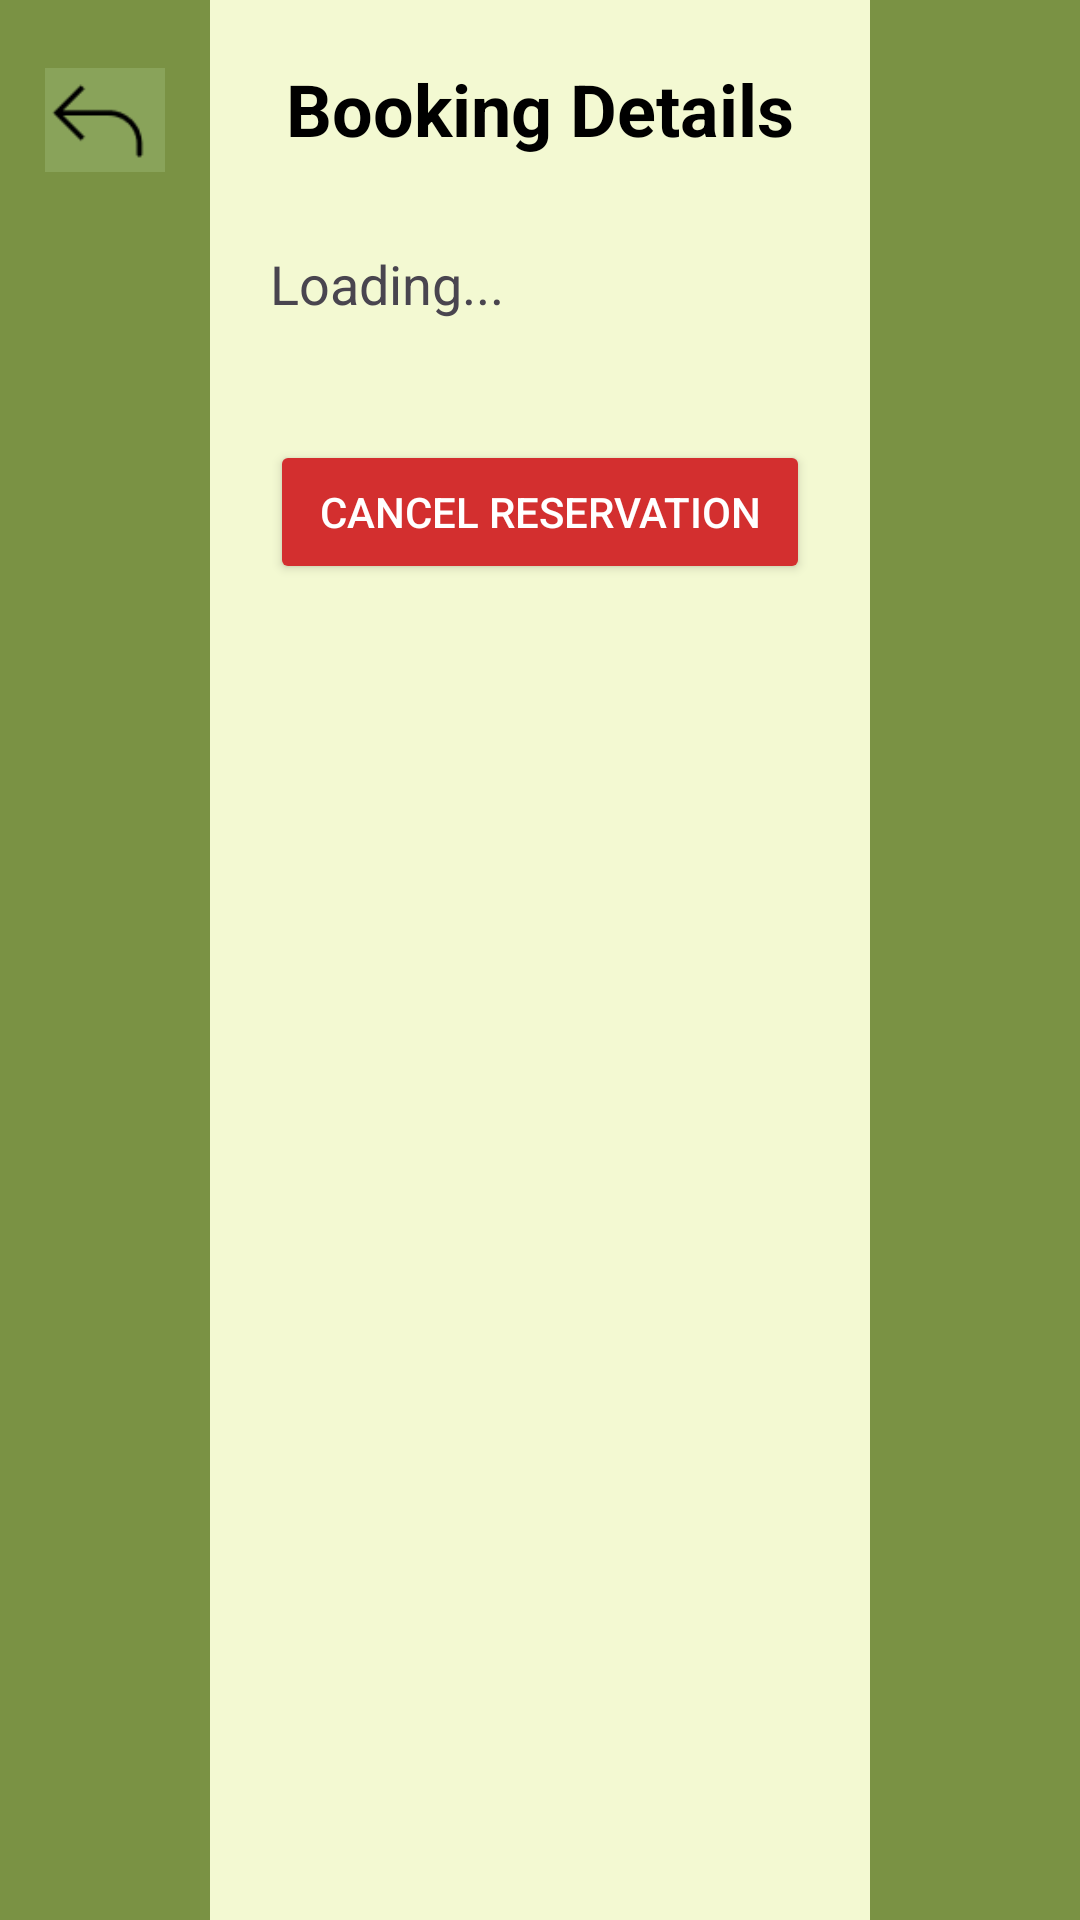

Where to tap for icons on this 1080 × 1920 app screen, as (x=x, y=y):
back: (x=105, y=120)
